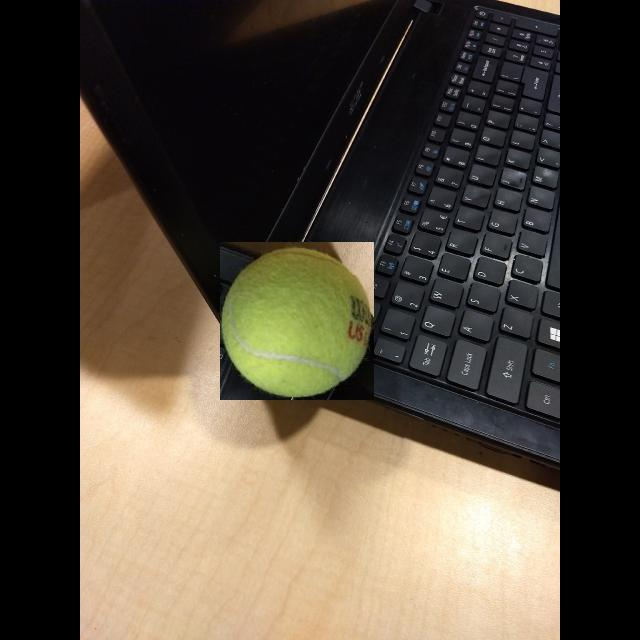tennis ball: (220, 242, 374, 400)
